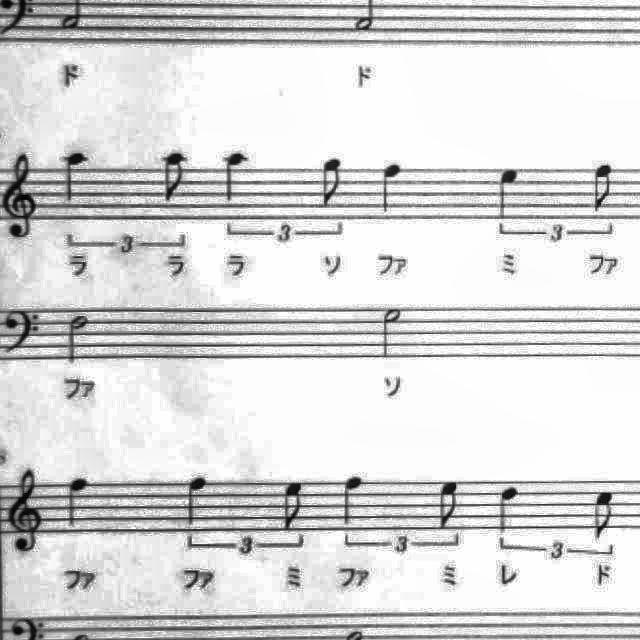Bass-clef: (0, 305, 44, 360)
Eighth-note: (154, 146, 193, 210), (584, 155, 624, 217), (313, 150, 351, 212), (586, 484, 622, 546), (277, 473, 311, 532), (431, 474, 465, 530)
Half-note: (61, 310, 95, 370), (374, 304, 406, 366)
Quarter-note: (488, 160, 528, 226), (57, 144, 95, 212), (216, 144, 256, 208), (374, 156, 410, 220), (180, 471, 216, 532), (490, 480, 526, 540), (60, 472, 96, 532), (336, 471, 368, 529)
Treble-clef: (0, 462, 48, 558), (0, 147, 40, 244)
